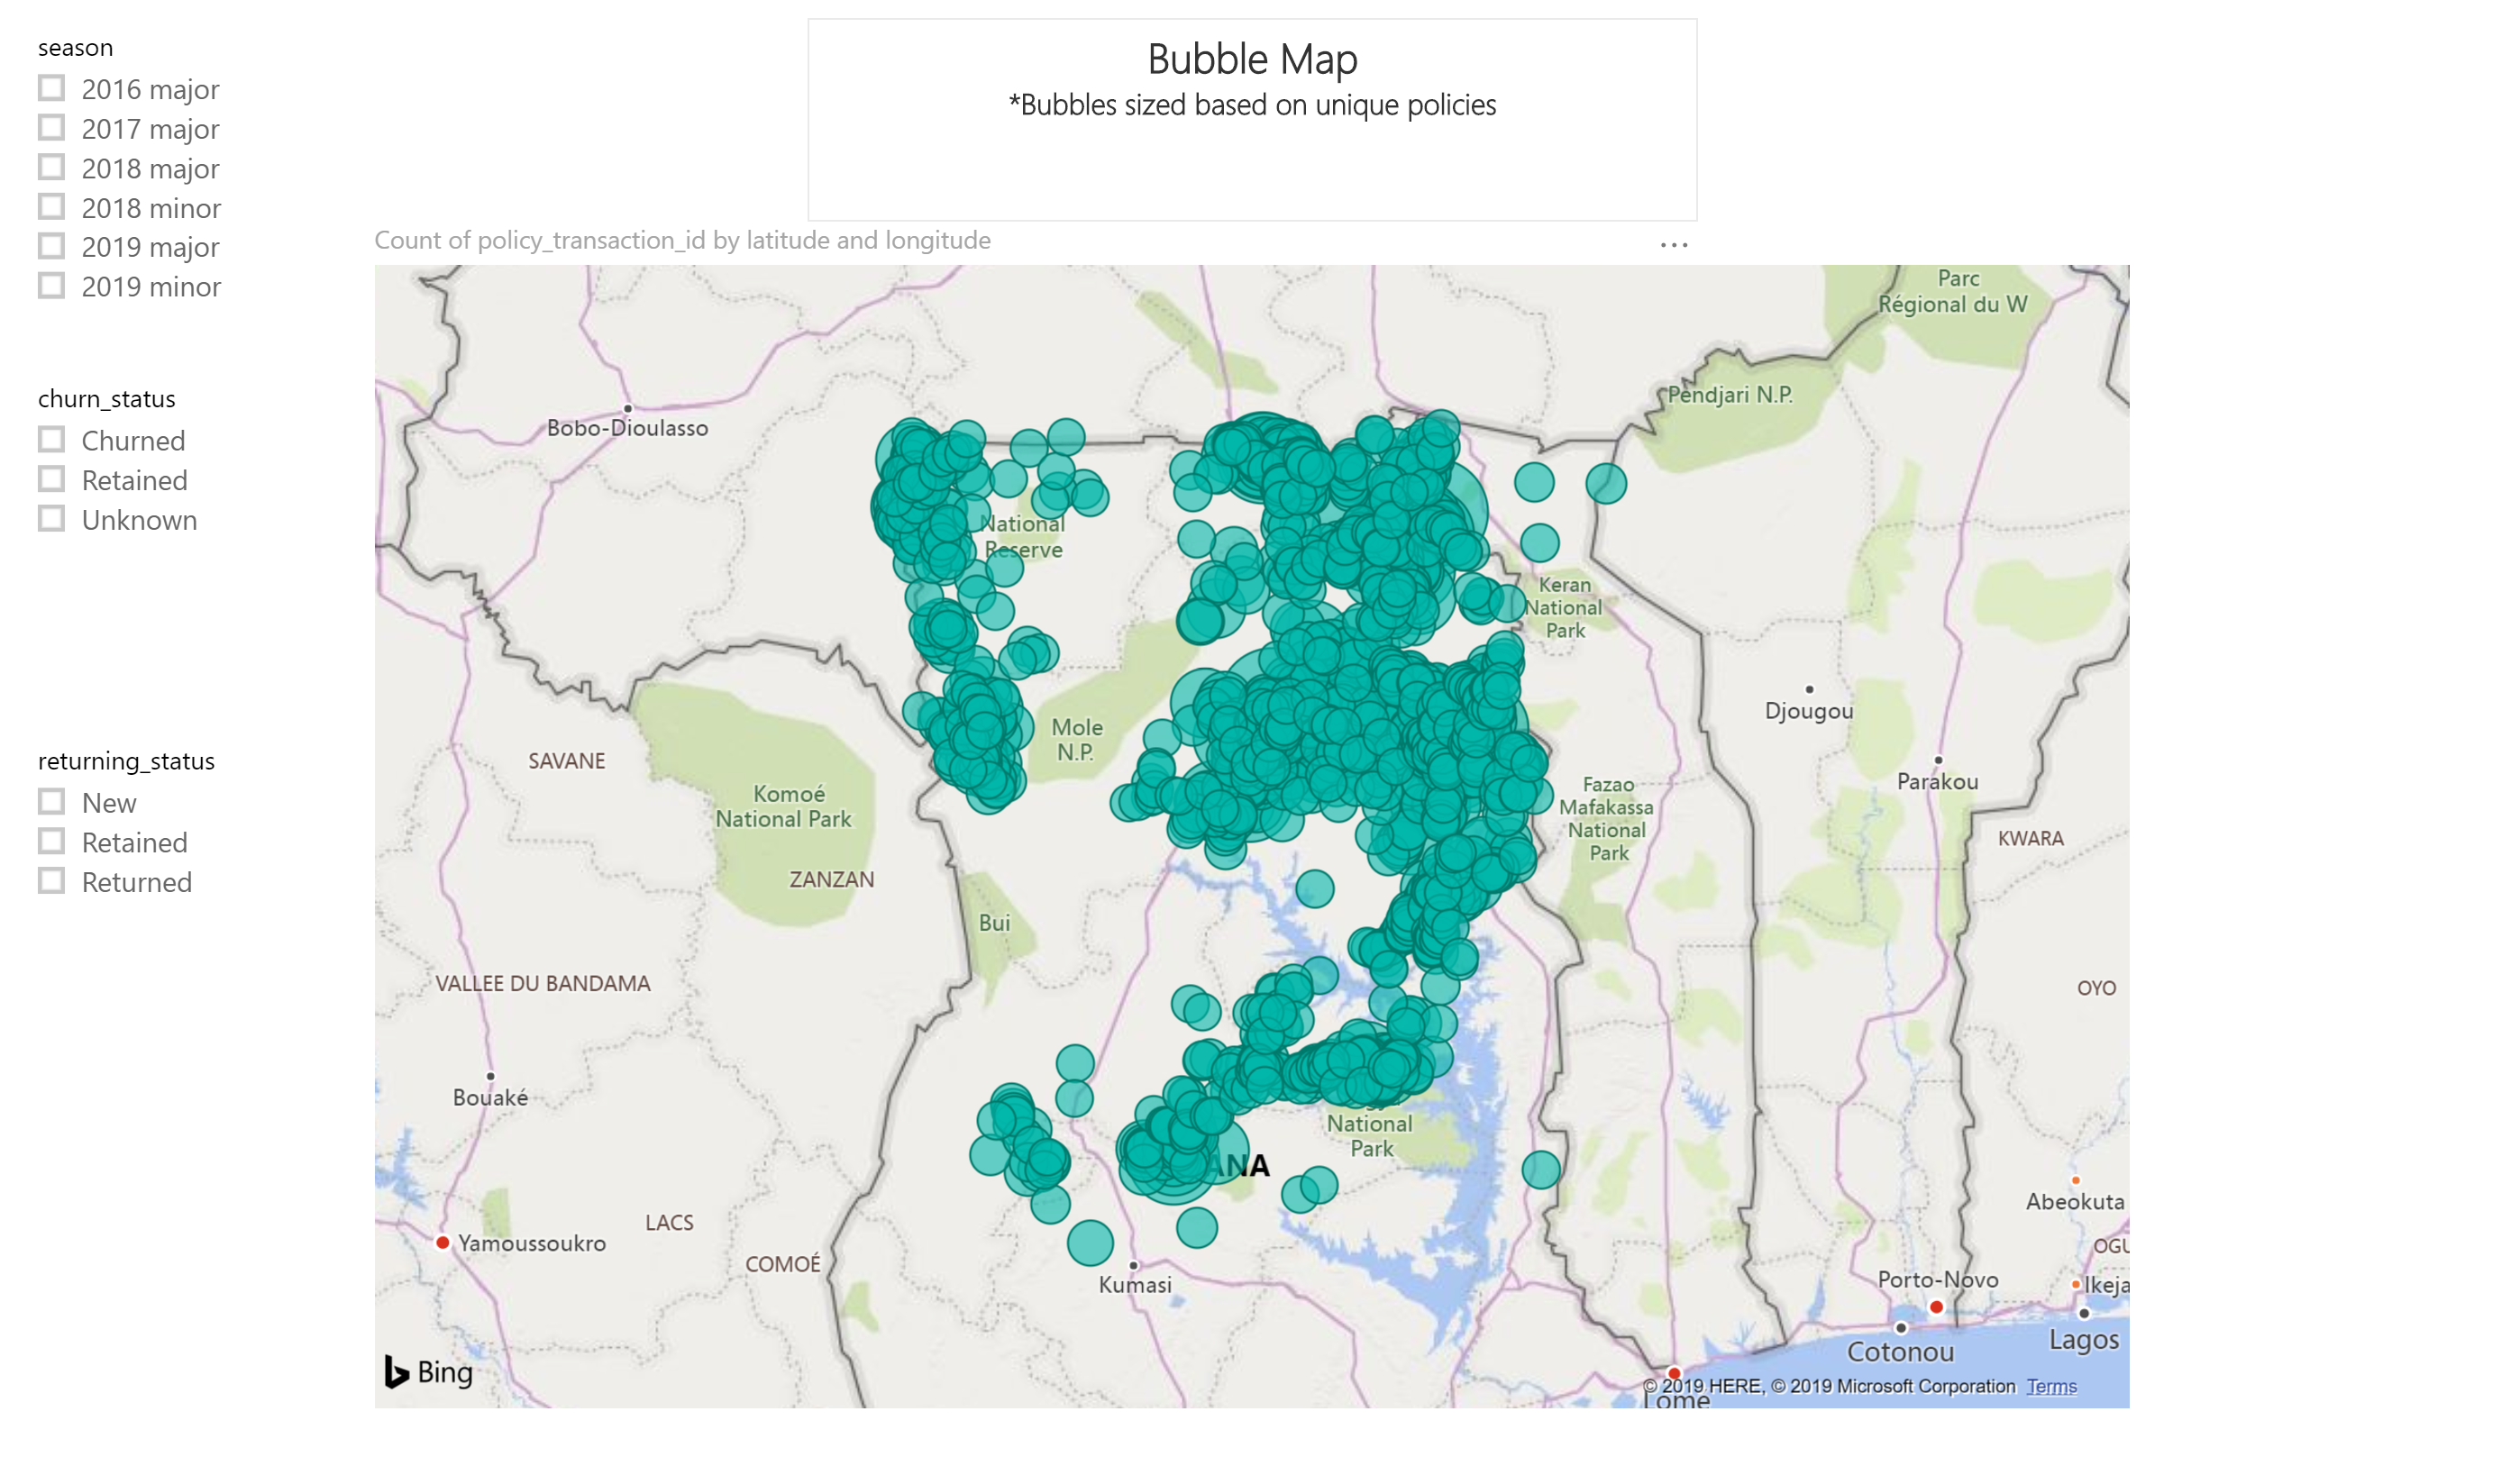

The page's visual inventory and layout, read from the dashboard file:
{"tool":"powerbi","page":{"name":"Map","canvas":[1280,720],"ordinal":4},"visuals":[{"type":"map","fields":{"X":["Final_table.longitude"],"Y":["Final_table.latitude"],"Size":["CountNonNull(Final_table.policy_transaction_id)"]},"box":[181.4,114.5,853.6,575.5],"z":0},{"type":"textbox","box":[394.1,16.4,428.2,98.2],"z":1000},{"type":"slicer","fields":{"Values":["Final_table.season"]},"box":[10.9,16.4,141.8,174.5],"z":2000},{"type":"slicer","fields":{"Values":["Final_table.churn_status"]},"box":[10.9,185.5,141.8,174.5],"z":3000},{"type":"slicer","fields":{"Values":["Final_table.returning_status"]},"box":[10.9,360,141.8,174.5],"z":4000}]}

Visuals, with their boxes on the page's 1280x720 design canvas (x1, y1, x2, y2). These are canvas units, not pixel positions in the 2520x1466 screenshot, which may show the page scaled, cropped or inside an application window:
map - Final_table.longitude x Final_table.latitude: pyautogui.locateOnScreen(181, 114, 1035, 690)
textbox: pyautogui.locateOnScreen(394, 16, 822, 115)
slicer - Final_table.season: pyautogui.locateOnScreen(11, 16, 153, 191)
slicer - Final_table.churn_status: pyautogui.locateOnScreen(11, 186, 153, 360)
slicer - Final_table.returning_status: pyautogui.locateOnScreen(11, 360, 153, 534)
